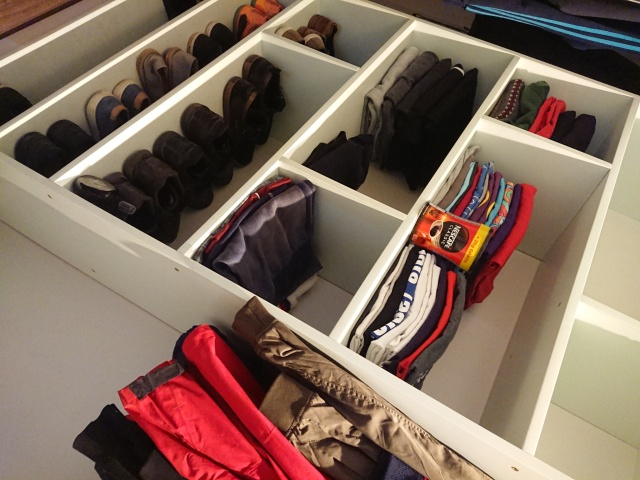Nescafe Classic 225g: (404, 198, 497, 277)
